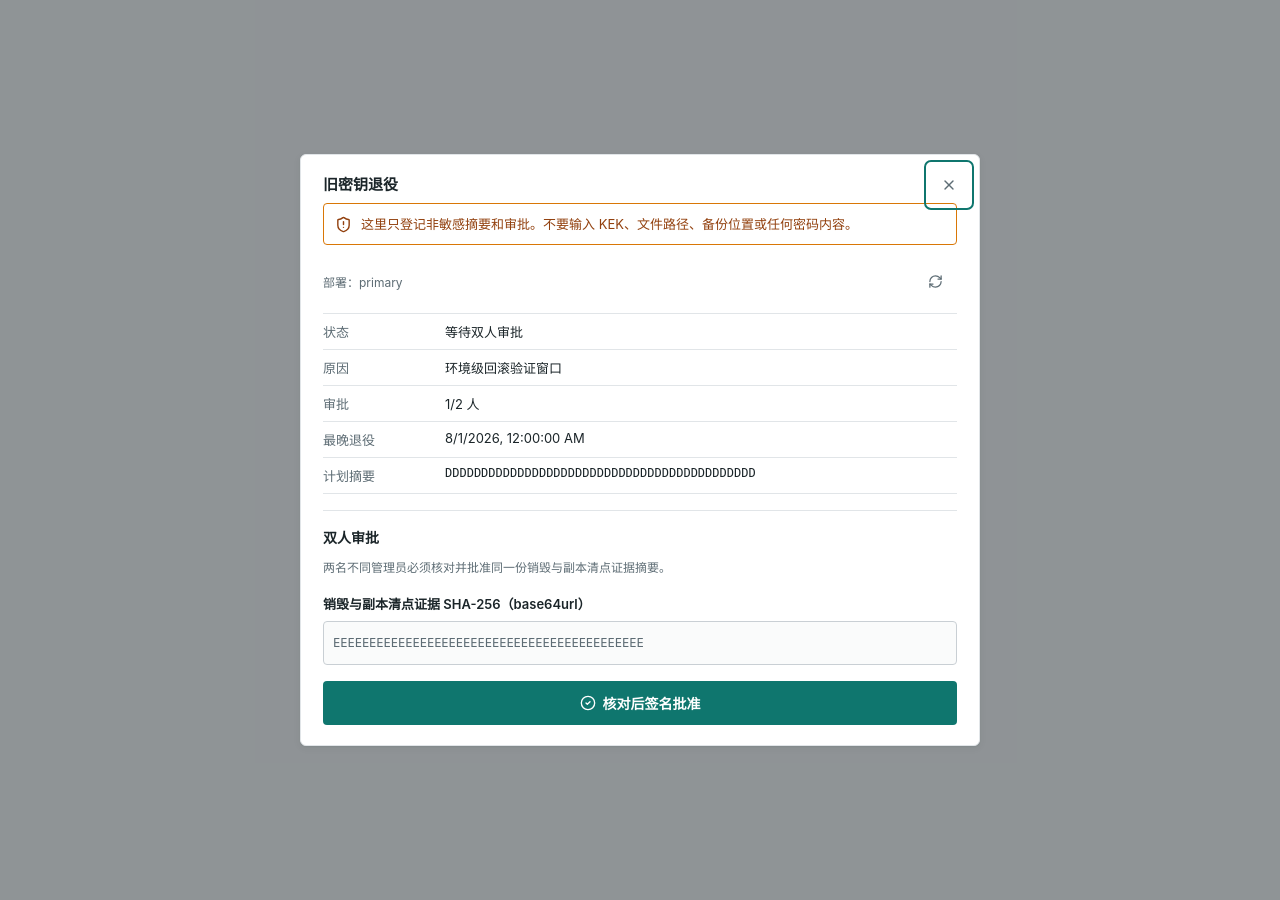
legacy key retirement admin dialog › reuses the first approval evidence digest for the second approval and completion
This screenshot has width=1280, height=900.
Click the button "核对后签名批准".
click(640, 703)  # box [323,681,957,725]
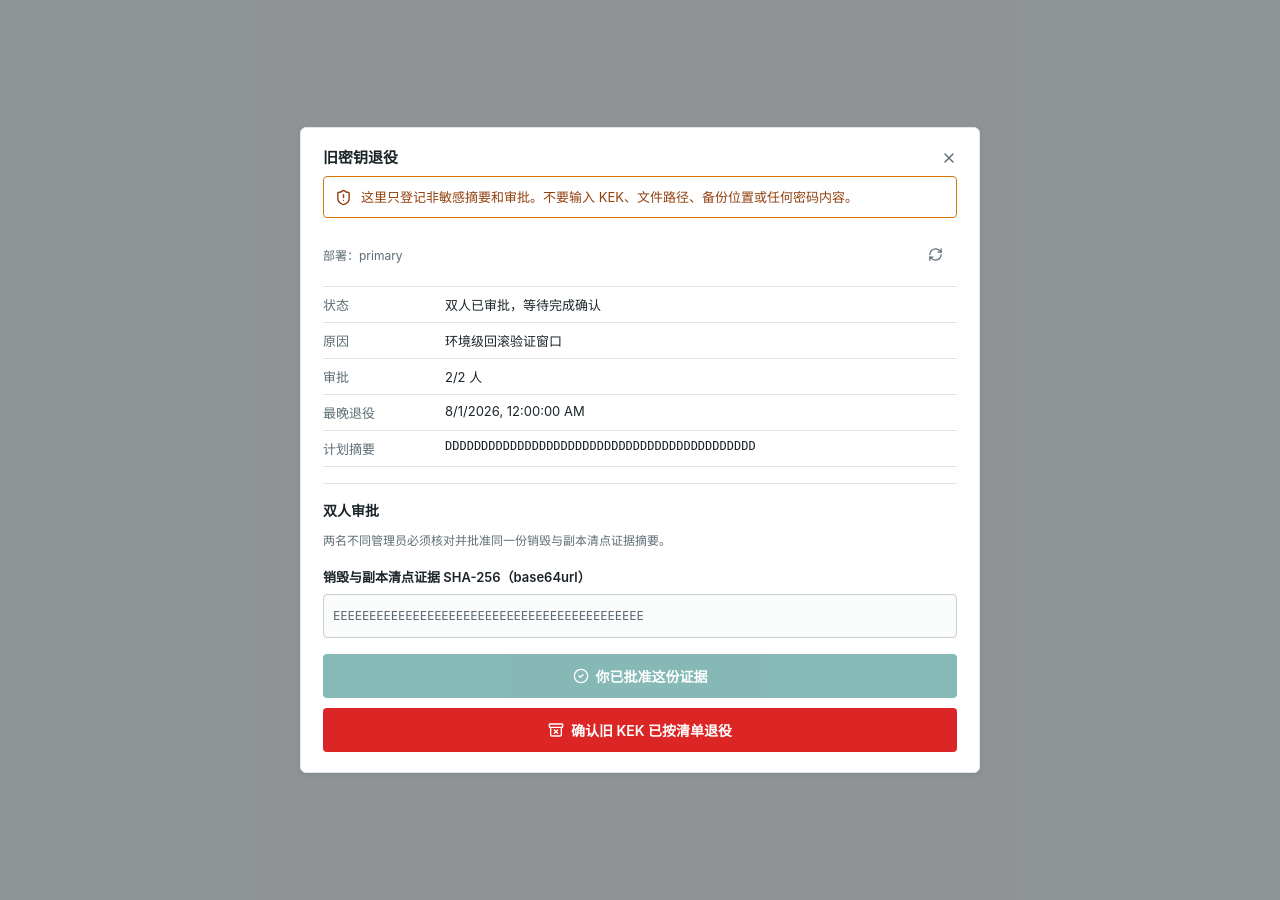
Click the button "确认旧 KEK 已按清单退役".
click(640, 730)  # box [323,708,957,752]
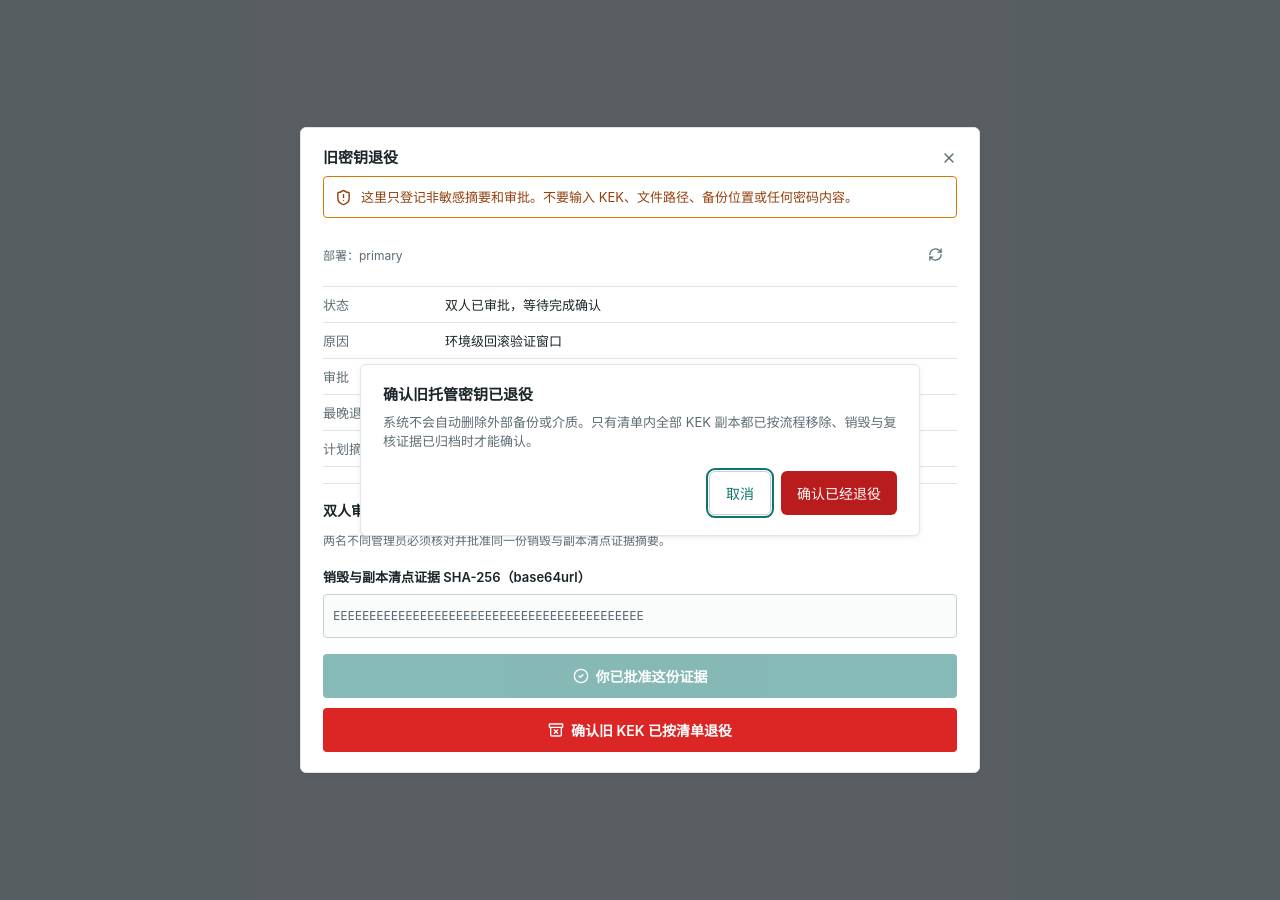
Click the button "确认已经退役".
click(839, 493)  # box [781,471,897,515]
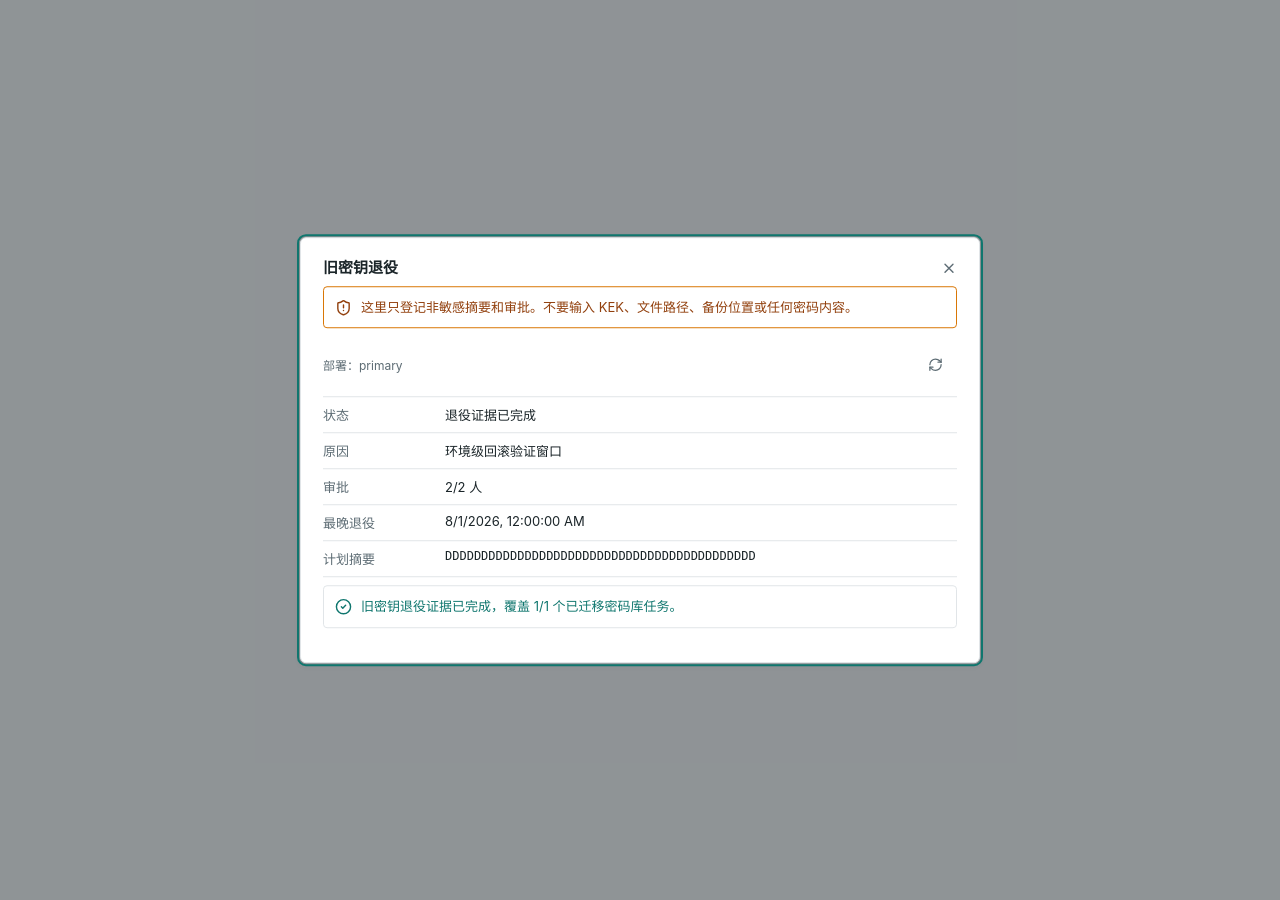
Expected: the text "旧密钥退役证据已完成，覆盖 1/1 个已迁移密码库任务。" is shown, [361,597,683,617]
